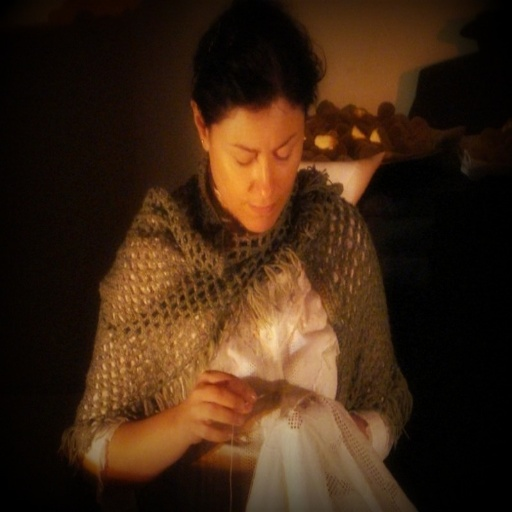hand: (140, 372, 261, 469)
